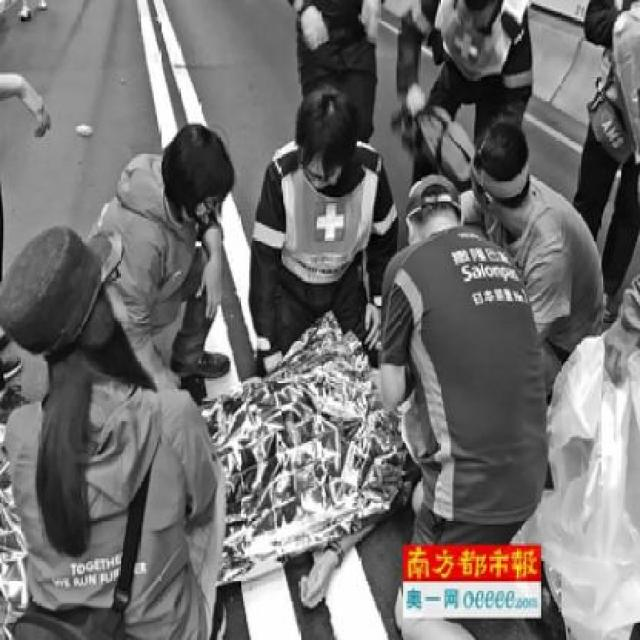fall: (218, 304, 412, 605)
